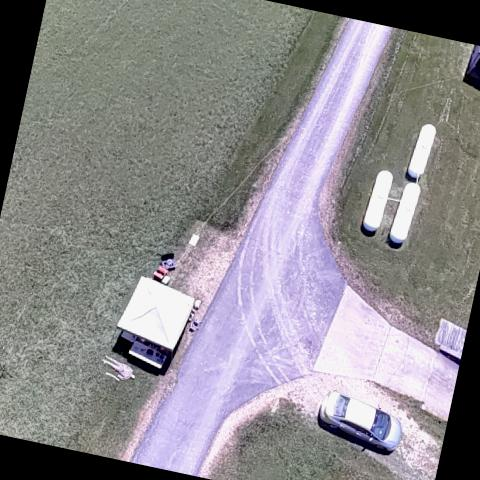person: (96, 352, 138, 381)
